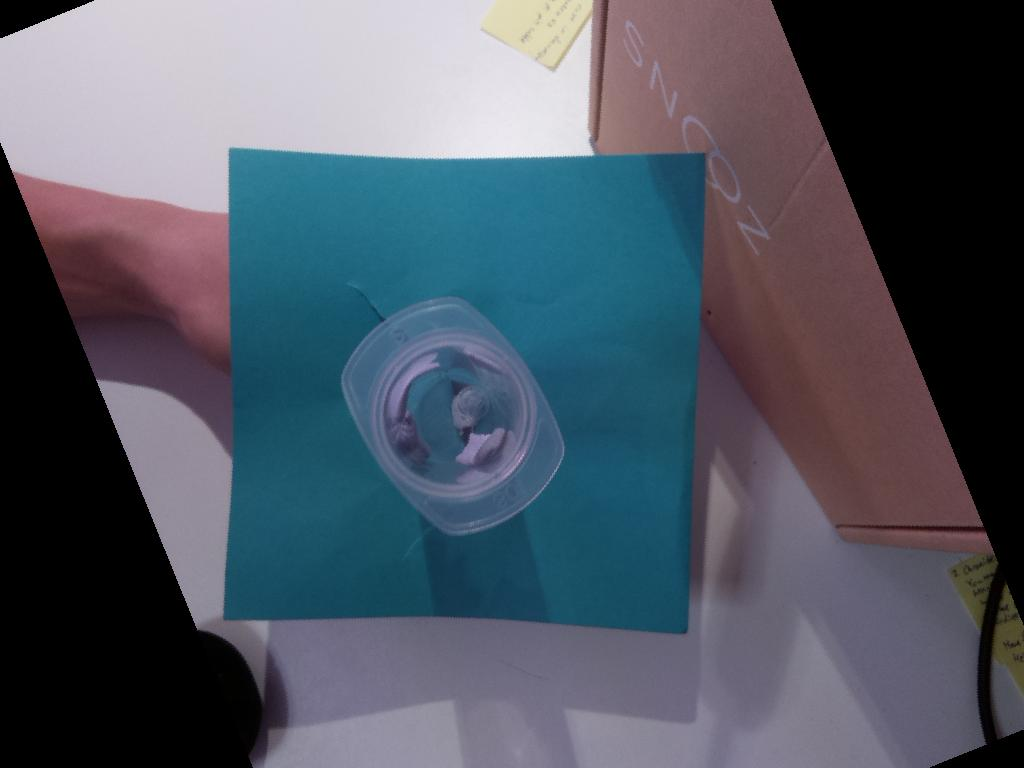dirty: (337, 297, 566, 536)
